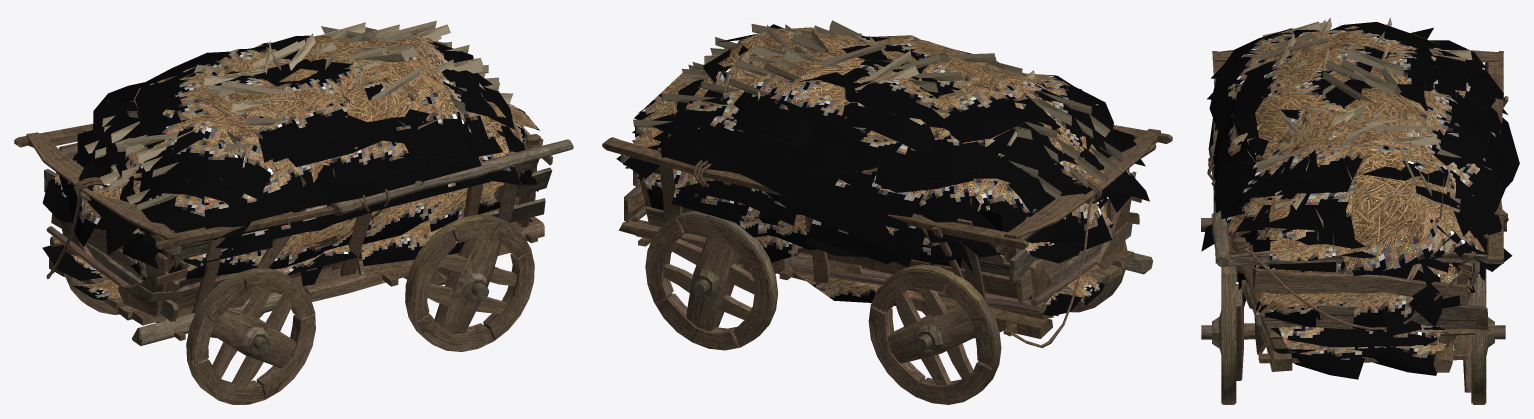
The model's file is ING_HSP_Haycart_Cart_01_LOD0_c-transformed.glb.
The picture shows the model from 3 angles, left to right: view 1: azimuth 30°, elevation 25°; view 2: azimuth 150°, elevation 25°; view 3: azimuth 270°, elevation 25°; orthographic projection. The views are drawn at different scales.
Visible parts, largest first — view 1: default (×2); view 2: default (×2); view 3: default (×2).
Part boxes in pixels (x1=…): default (×2): x1=14, y1=20, x2=573, y2=404; default (×2): x1=602, y1=20, x2=1172, y2=404; default (×2): x1=1201, y1=17, x2=1519, y2=404.
Size of the model in its own units: 3.7 by 2.24 by 2.3.
Materials: 5 (5 with a texture image).
